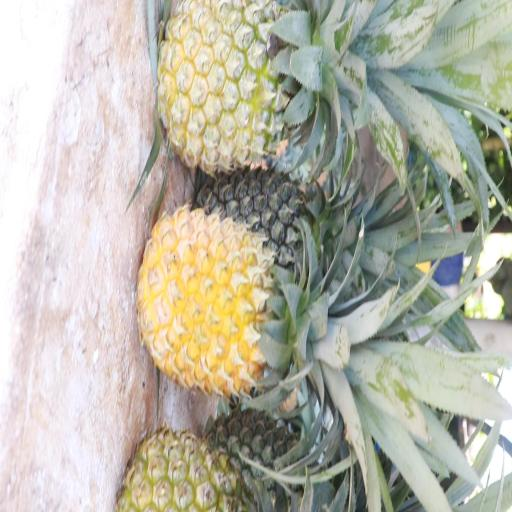------------------------------: (164, 0, 319, 168), (121, 427, 246, 512)
Pineapple - v8 v1: (143, 210, 321, 395)
